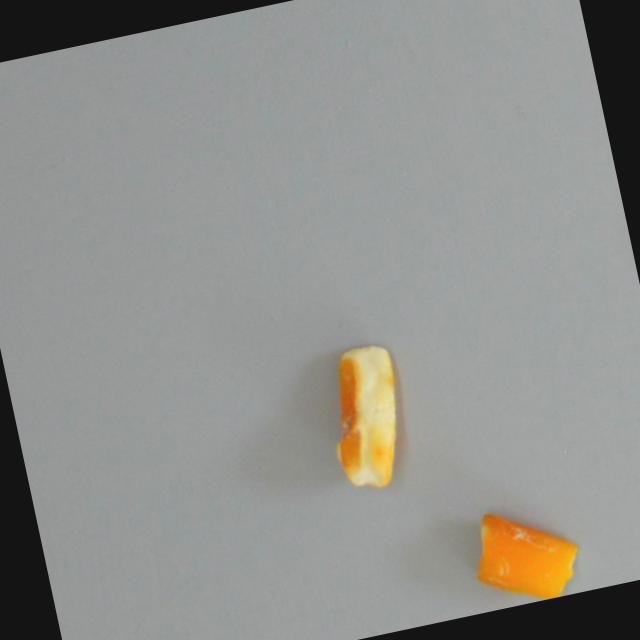dañado: (311, 338, 420, 494), (461, 494, 584, 613)
